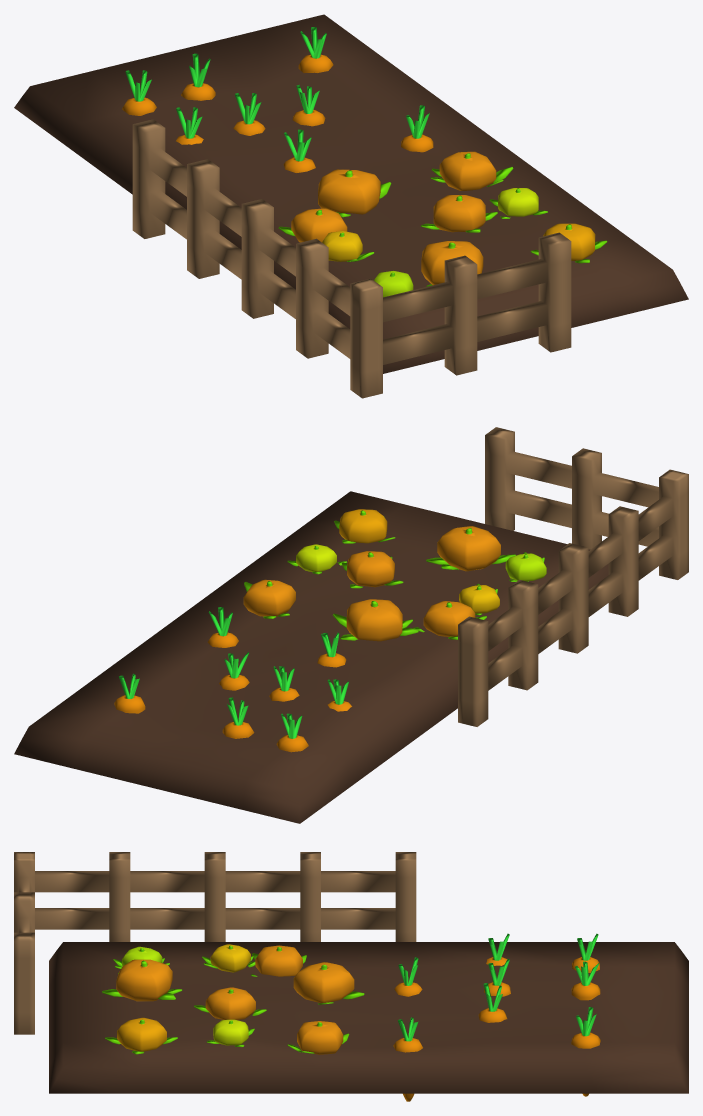
The model's file is Farm com Cerca.fbx.
3 views of the same model, one above another, from view 1: azimuth 30°, elevation 25°; view 2: azimuth 150°, elevation 25°; view 3: azimuth 270°, elevation 25° (orthographic). The views are drawn at different scales.
Parts seen in each view (by area): view 1: Cube.002; view 2: Cube.002; view 3: Cube.002.
Part boxes in pixels (x1=…): Cube.002: x1=14, y1=14, x2=688, y2=398; Cube.002: x1=14, y1=427, x2=688, y2=823; Cube.002: x1=14, y1=852, x2=688, y2=1101.
Size of the model in its own units: 1248 by 506 by 2400.
